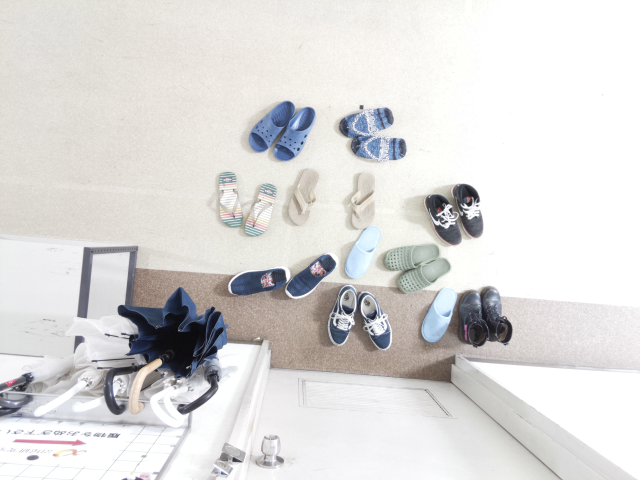shoe: (285, 249, 340, 301), (355, 285, 395, 356), (322, 285, 362, 356), (247, 98, 297, 152), (272, 104, 316, 162), (418, 283, 458, 344), (225, 262, 290, 299), (392, 254, 452, 292), (450, 181, 489, 239), (480, 282, 515, 346), (344, 169, 378, 234), (239, 179, 277, 237), (420, 193, 460, 247), (454, 287, 487, 352), (285, 163, 318, 225), (380, 239, 442, 271), (338, 104, 394, 139), (214, 168, 244, 230), (348, 134, 407, 162)
